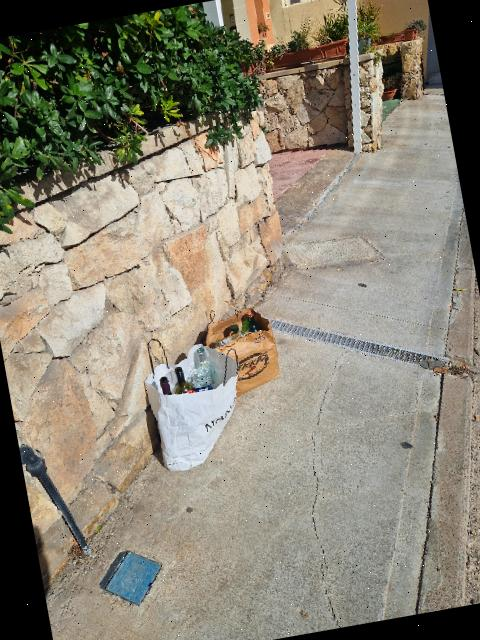Other: (144, 344, 237, 470), (205, 309, 279, 397)
